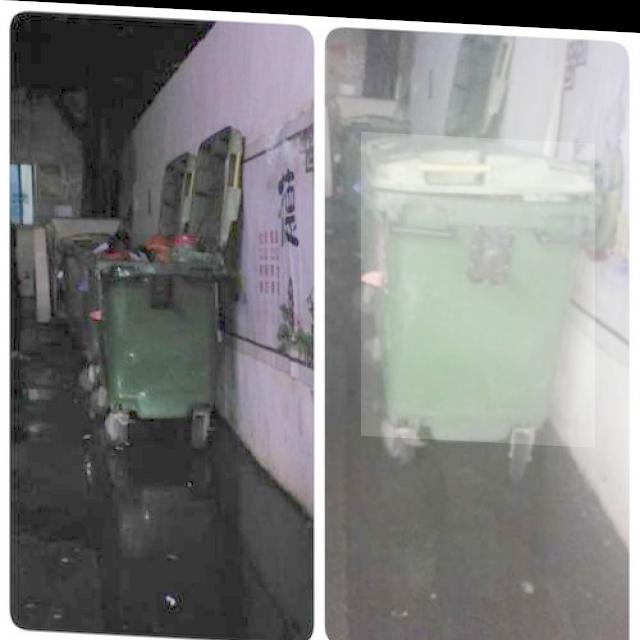garbage_bin: (361, 128, 595, 441)
overflow: (101, 231, 225, 418)
